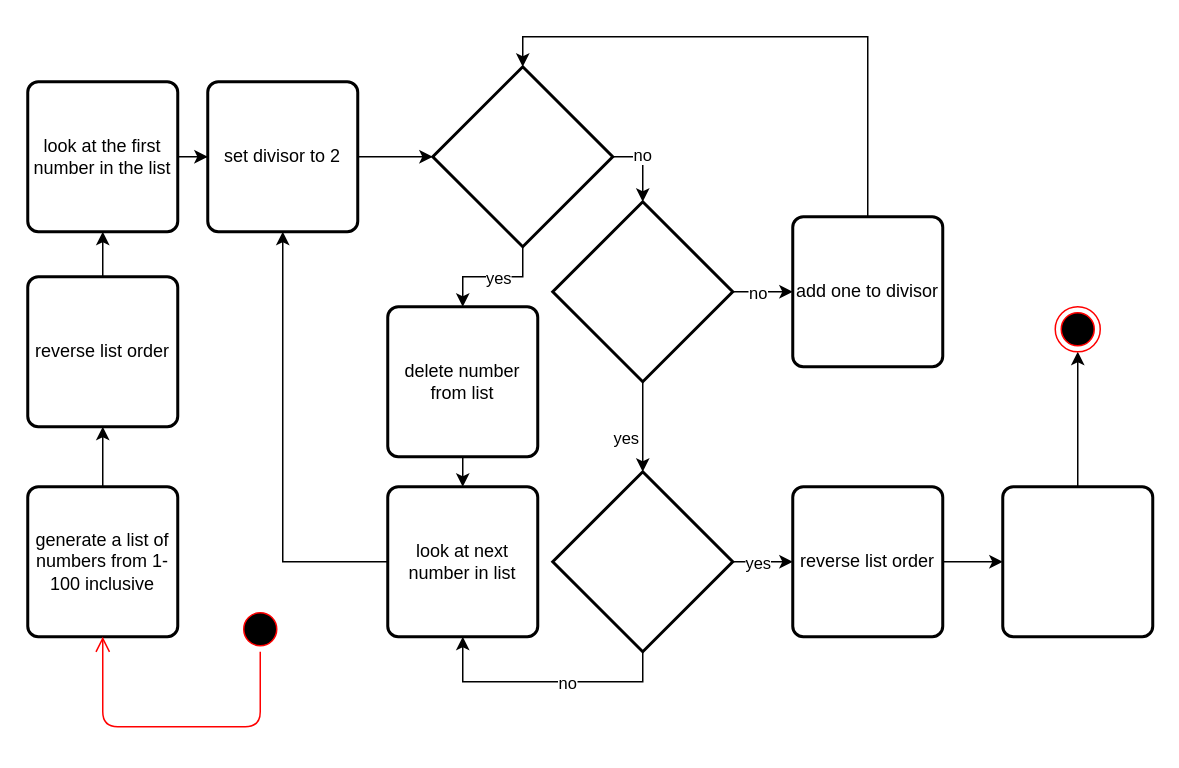
Image size: 1179x768. Some labels were removed from this diagram. The shapes that lost their labels are listed below. From the top down, each one's centre as x and y in pixels, then its label:
At point 522,156: "number modulus divisor == 0?".
At point 642,291: "divisor == number?".
At point 642,561: "is number last in list?".
At point 1077,561: "display list of numbers".
